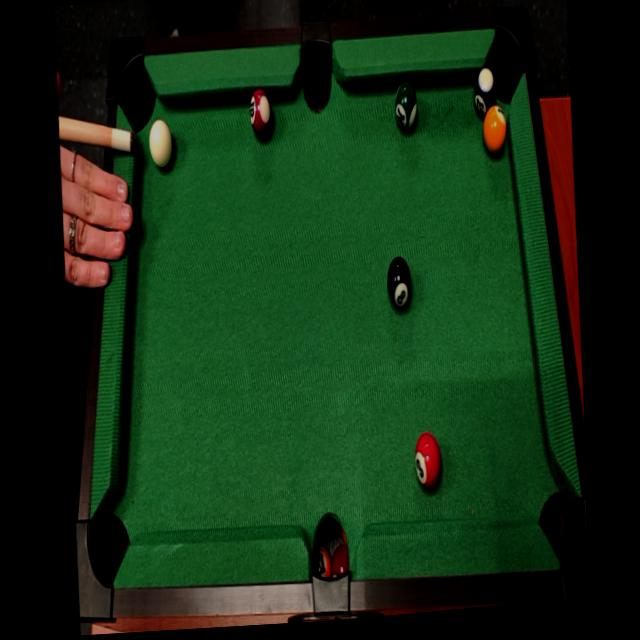cue ball: (145, 114, 175, 176)
other: (412, 429, 445, 493), (470, 63, 499, 123), (246, 84, 274, 145), (384, 250, 411, 313), (392, 75, 420, 134), (479, 107, 508, 157)
